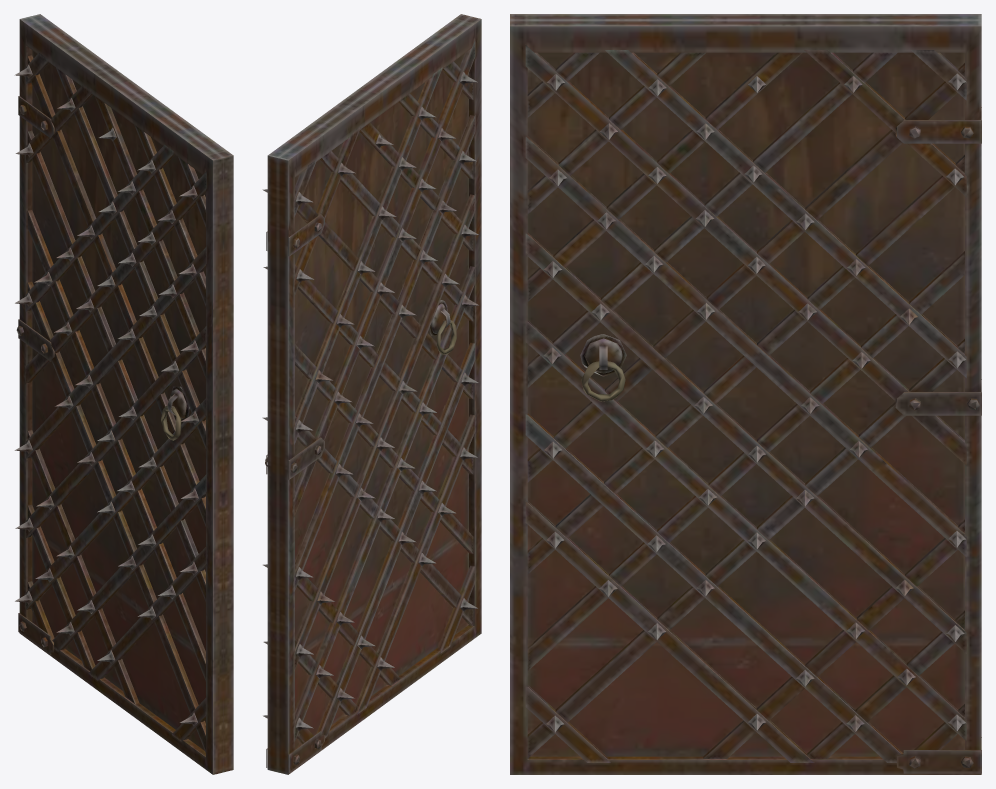
The model's file is medieval.door.hinged.metal.glb.
3 renders of one model, left to right at view 1: azimuth 30°, elevation 25°; view 2: azimuth 150°, elevation 25°; view 3: azimuth 270°, elevation 25°, orthographic. The views are drawn at different scales.
Parts seen in each view (by area): view 1: door; view 2: door; view 3: door.
Boxes of the visible parts, left/top/right/bottom form: door: left=14, top=14, right=233, bottom=774; door: left=262, top=14, right=481, bottom=774; door: left=510, top=14, right=981, bottom=774.
Bounding box in the file's own units: 0.1845 × 2.1 × 1.2.
1 material, 1 textured.
